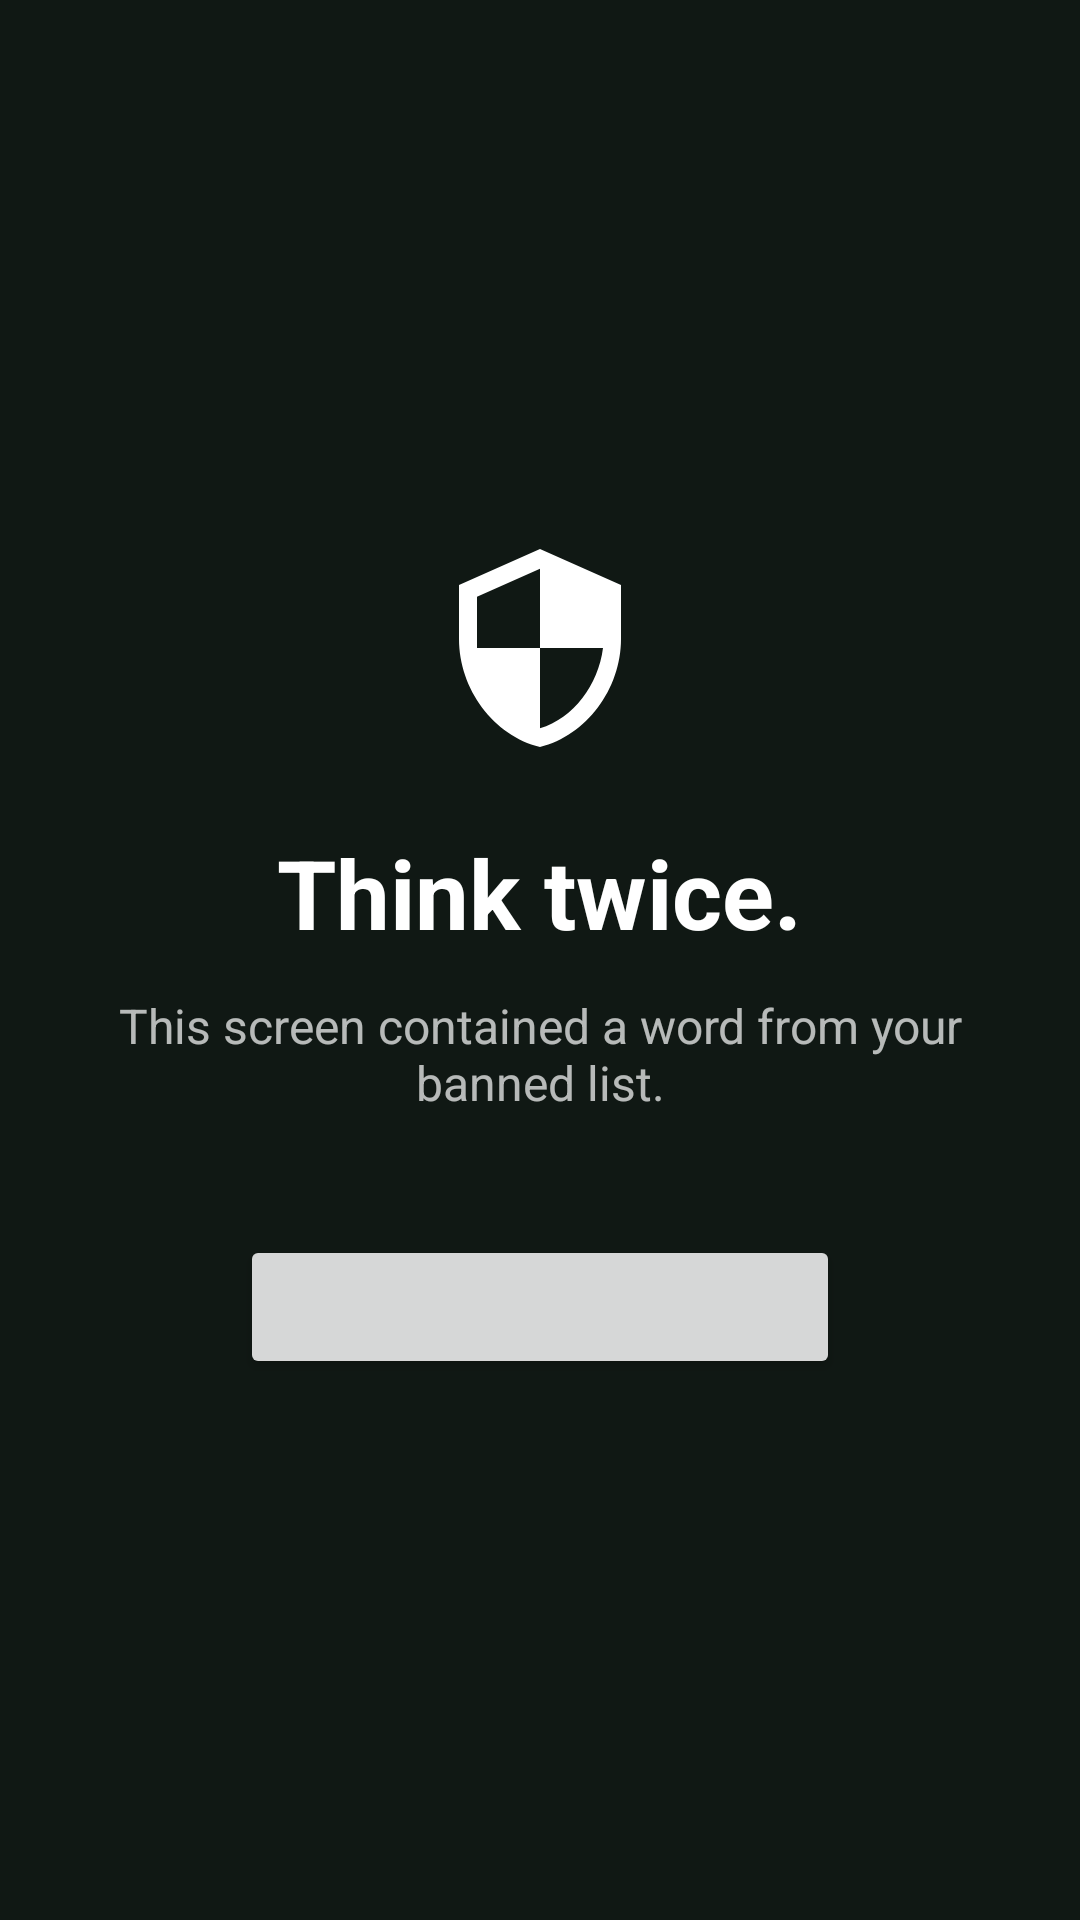

Icon click points for this 1080px x 1920px phone screenshot, format (x,y):
shield: (540,648)
